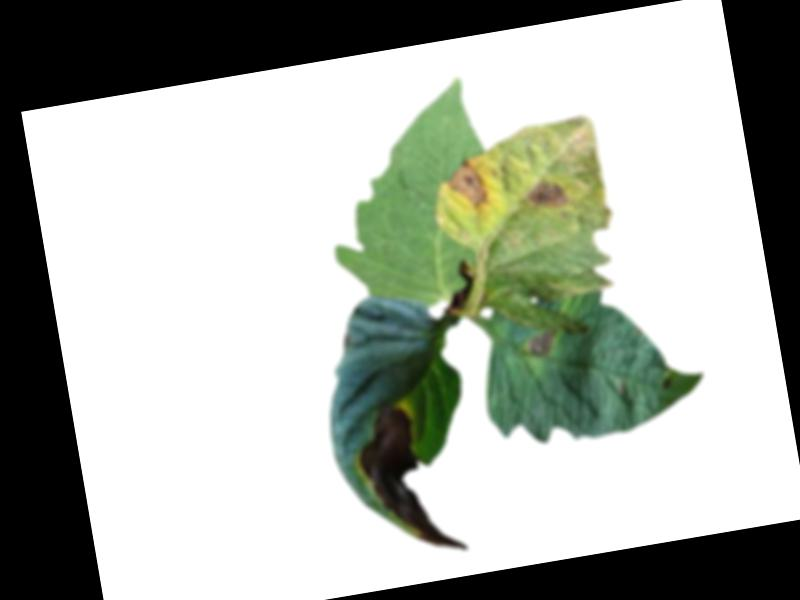Early_blight: (348, 390, 470, 567), (441, 158, 489, 211), (522, 174, 569, 214), (522, 326, 560, 360), (657, 373, 676, 390)
healthy: (307, 72, 508, 322)
